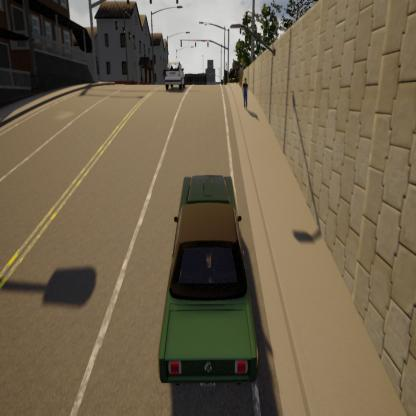Cars: (148, 152, 271, 416), (160, 41, 188, 114)
Pedestrian: (236, 61, 252, 116)
